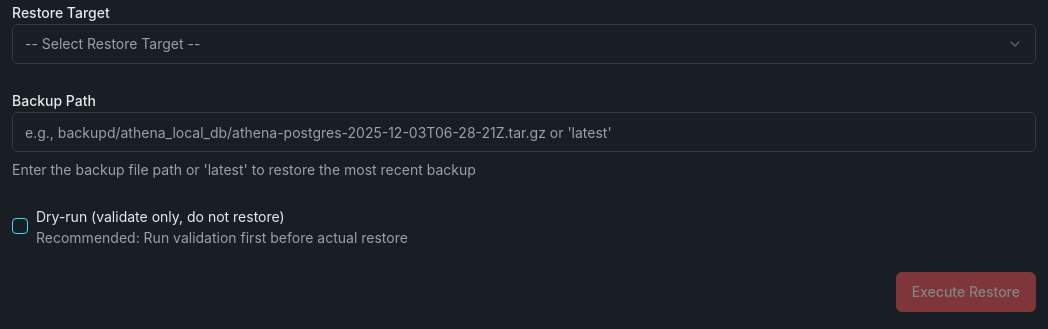
Test: RestoreForm Component › populates restore target dropdown with targets
Click the dropdown labelled "-- Select Restore Target --": [113, 44] box [12,24,1036,64]
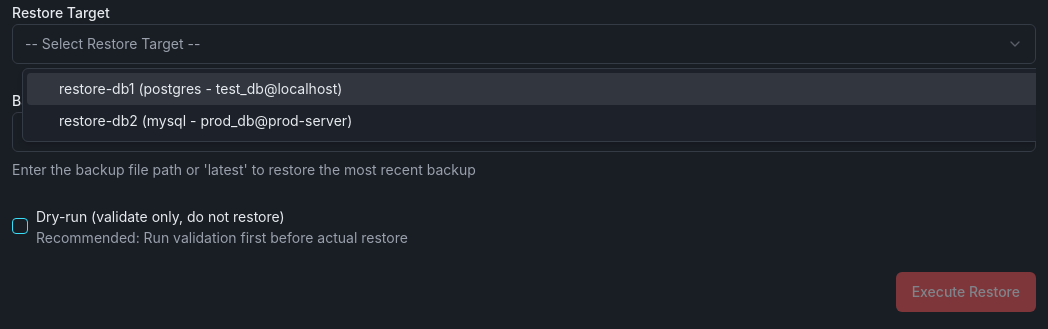
Result: the option "restore-db2 (mysql - prod_db@prod-server)" is shown at [59,112,352,129]
